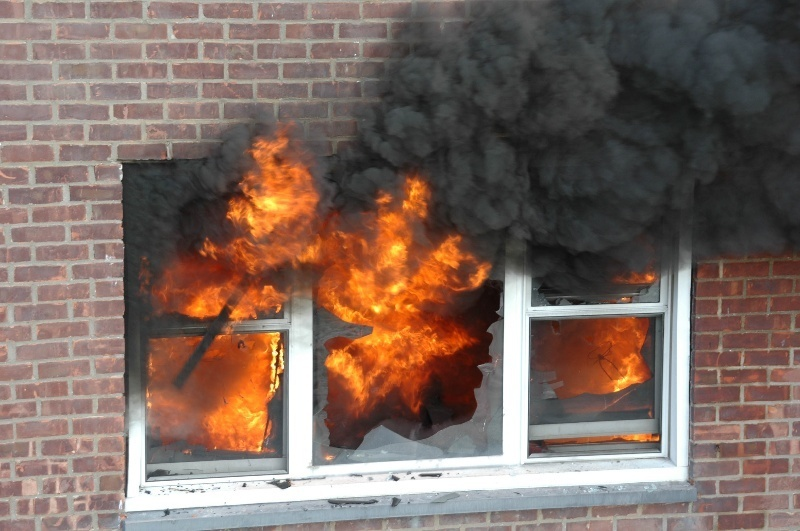fire: (147, 144, 496, 446), (602, 305, 653, 394)
